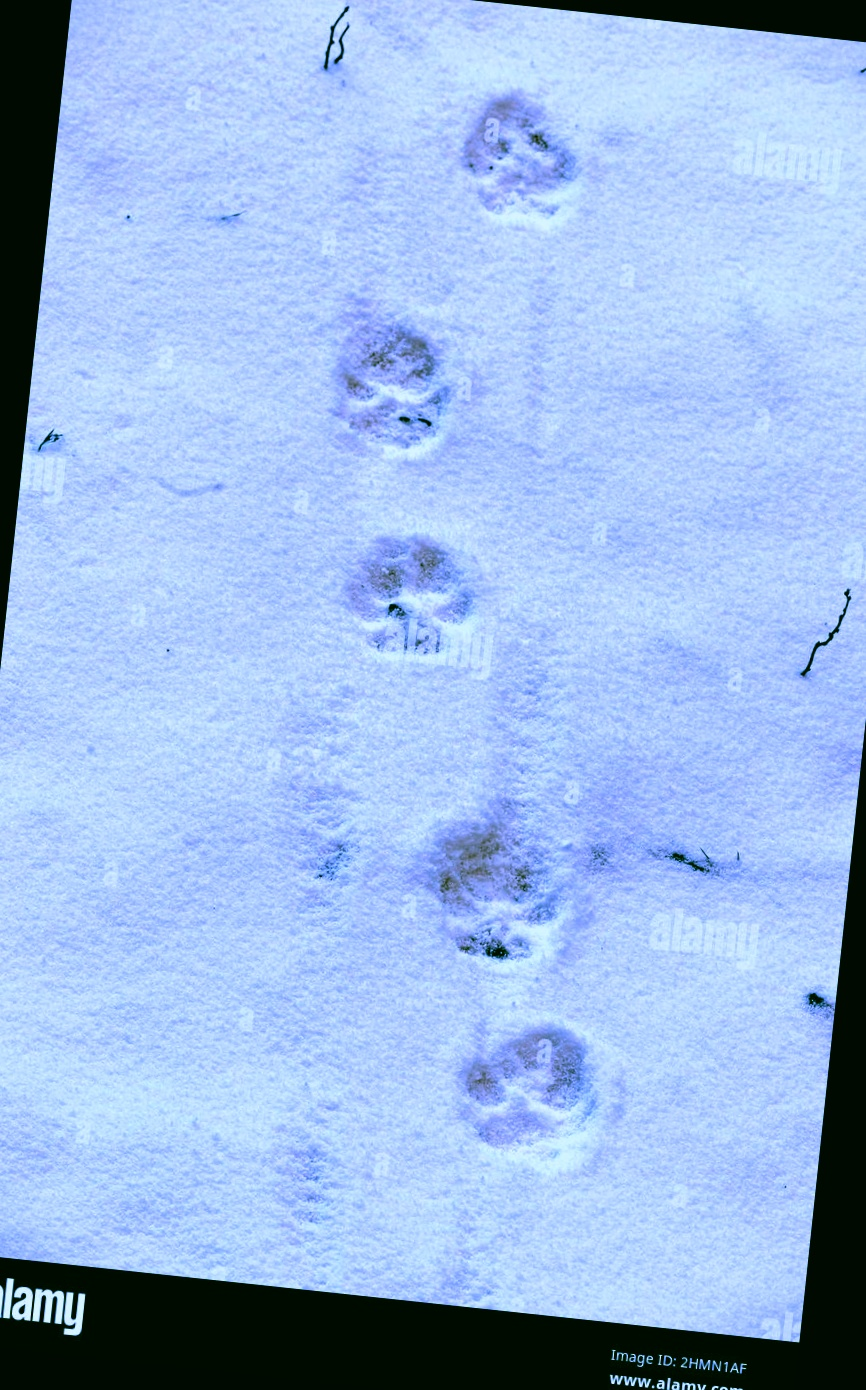loup: (427, 999, 650, 1187), (285, 290, 495, 480), (426, 74, 622, 241), (326, 517, 512, 683)
